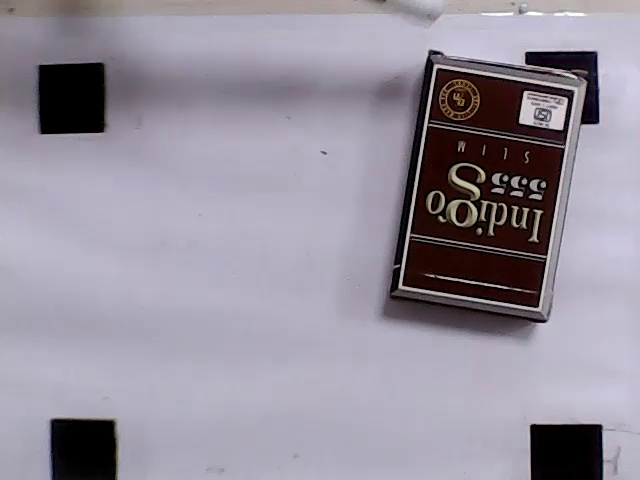BEX: (401, 68, 576, 310)
